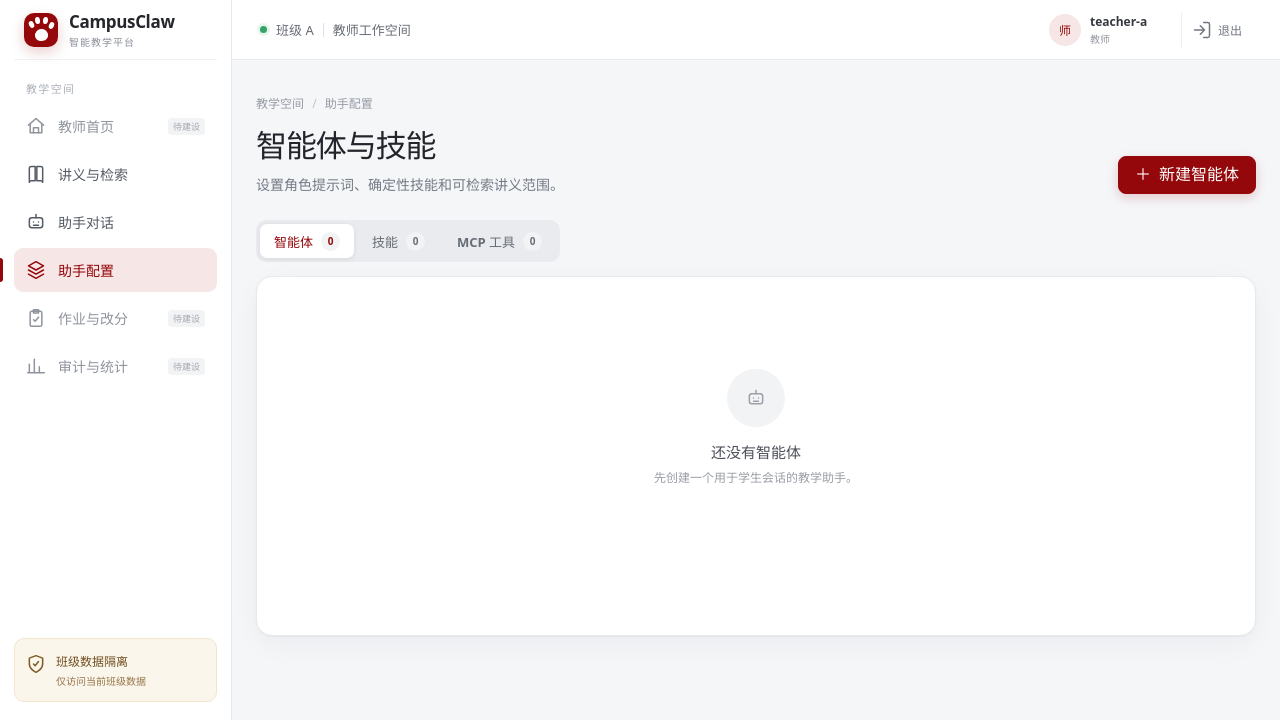
AgentConfigView › keeps the complete assistant draft when saving fails
The width and height of the screenshot is (1280, 720).
Click the button with class "button--primary" at coordinates (1187, 175), box top-left (1118, 156), bottom-right (1256, 194)
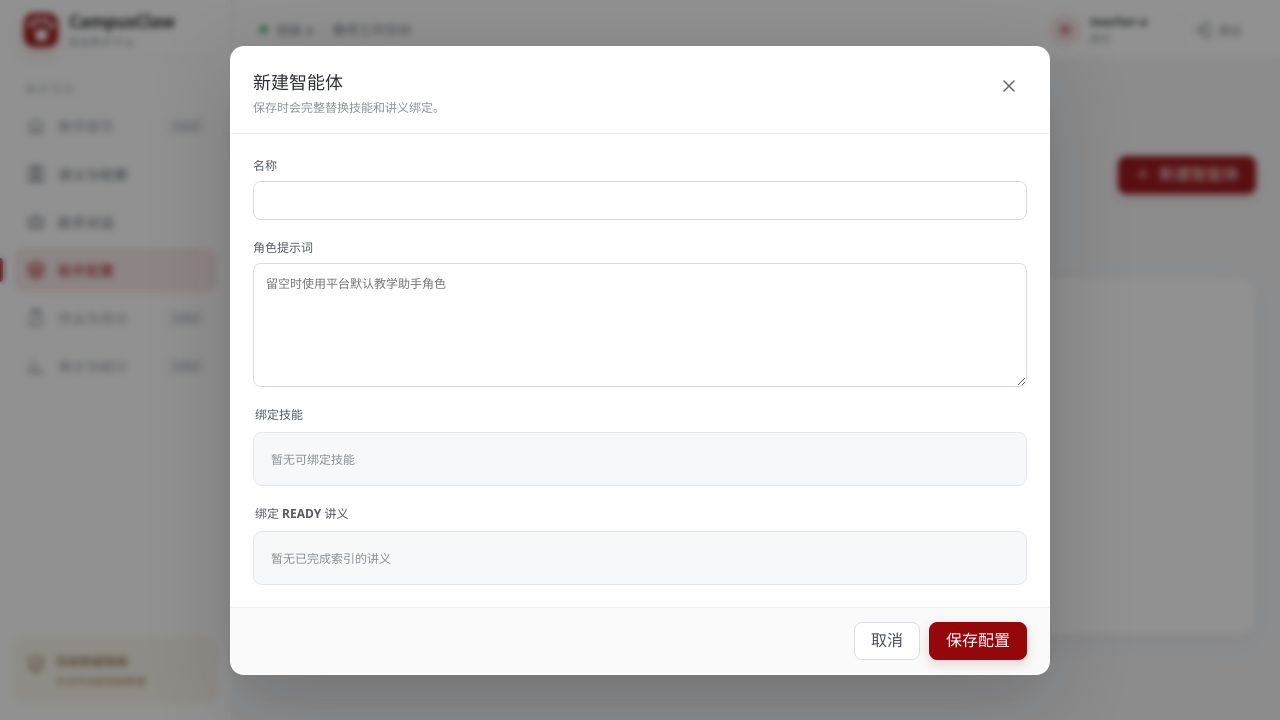
Type "保留草稿" into the field labelled "名称" at coordinates (640, 200), box top-left (253, 180), bottom-right (1027, 220)
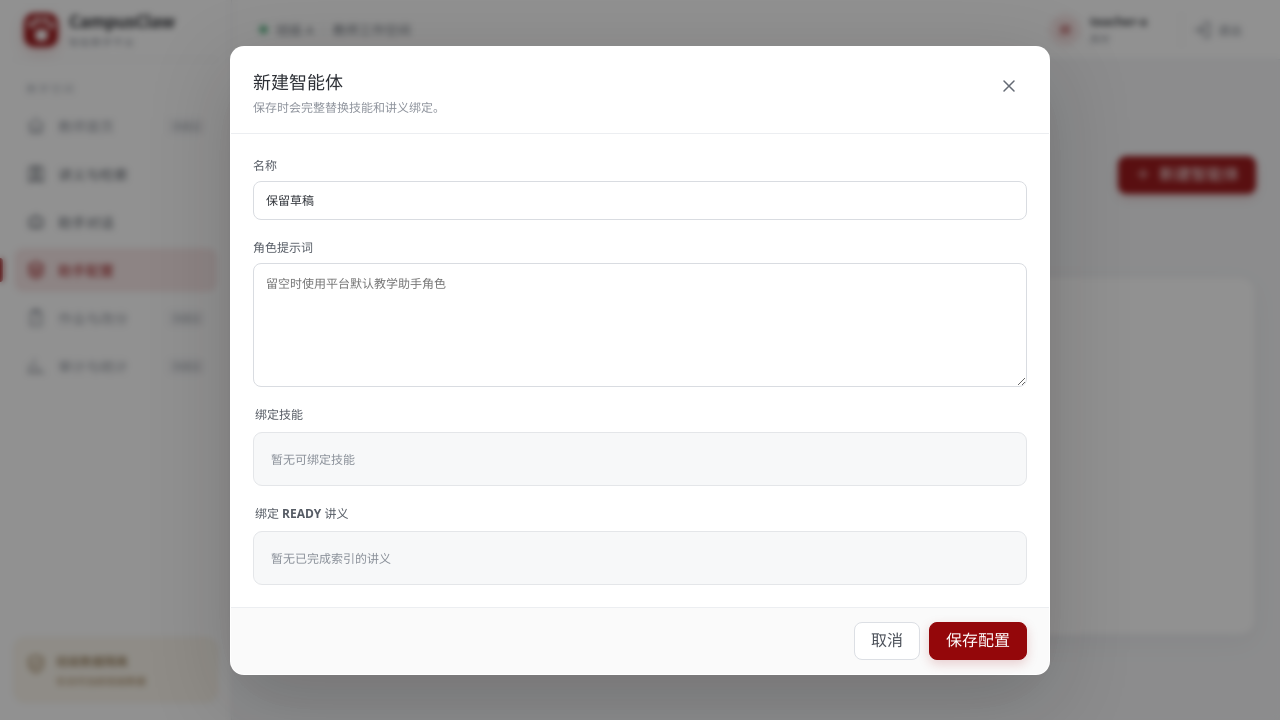
Type "不要丢失的提示词" into the text box labelled "角色提示词" at coordinates (640, 324), box top-left (253, 262), bottom-right (1027, 386)
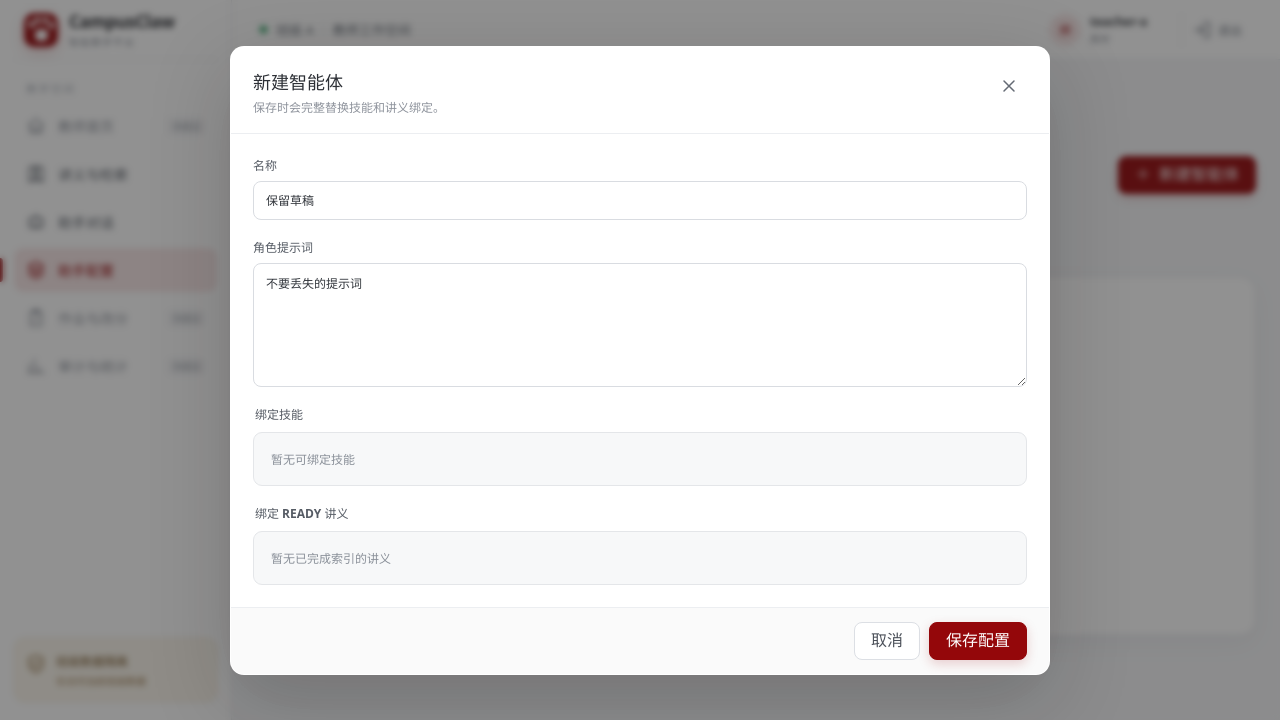
Submit the form with id "assistant-form", box top-left (253, 156), bottom-right (1027, 584)
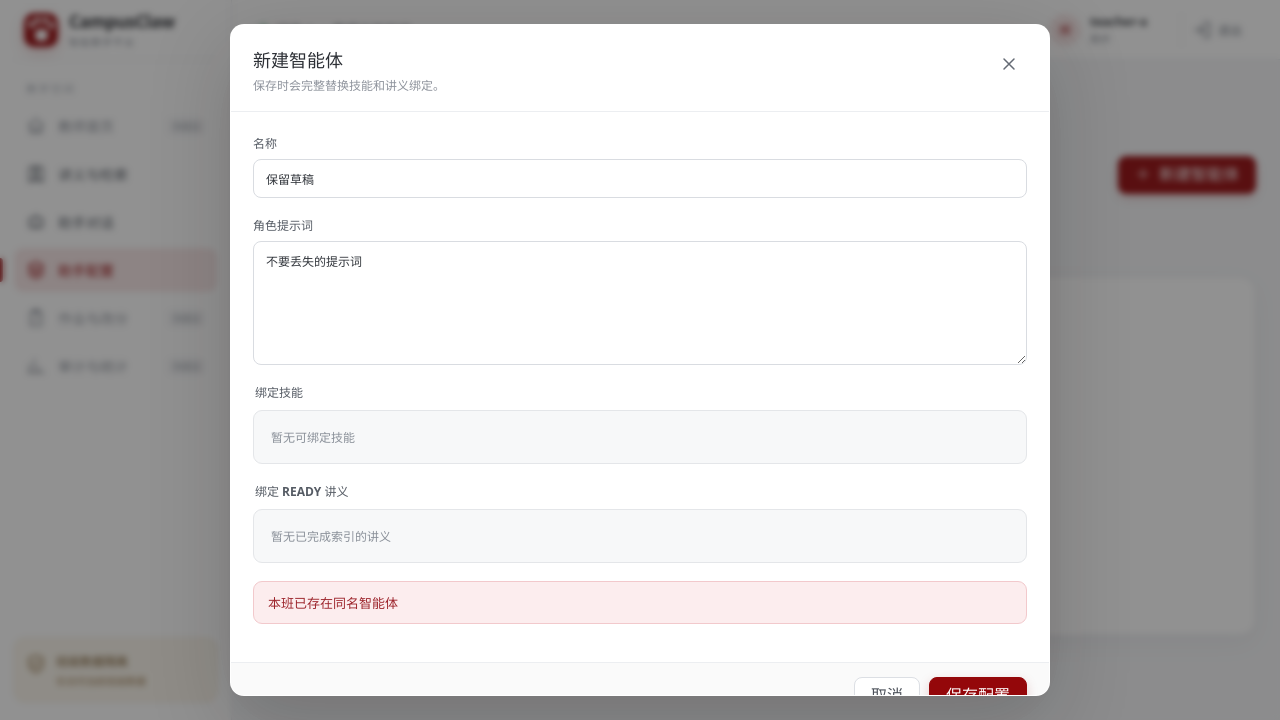
Now the dialog is shown, box top-left (230, 24), bottom-right (1050, 696)
Now the text "本班已存在同名智能体" is shown, box top-left (253, 581), bottom-right (1027, 624)
